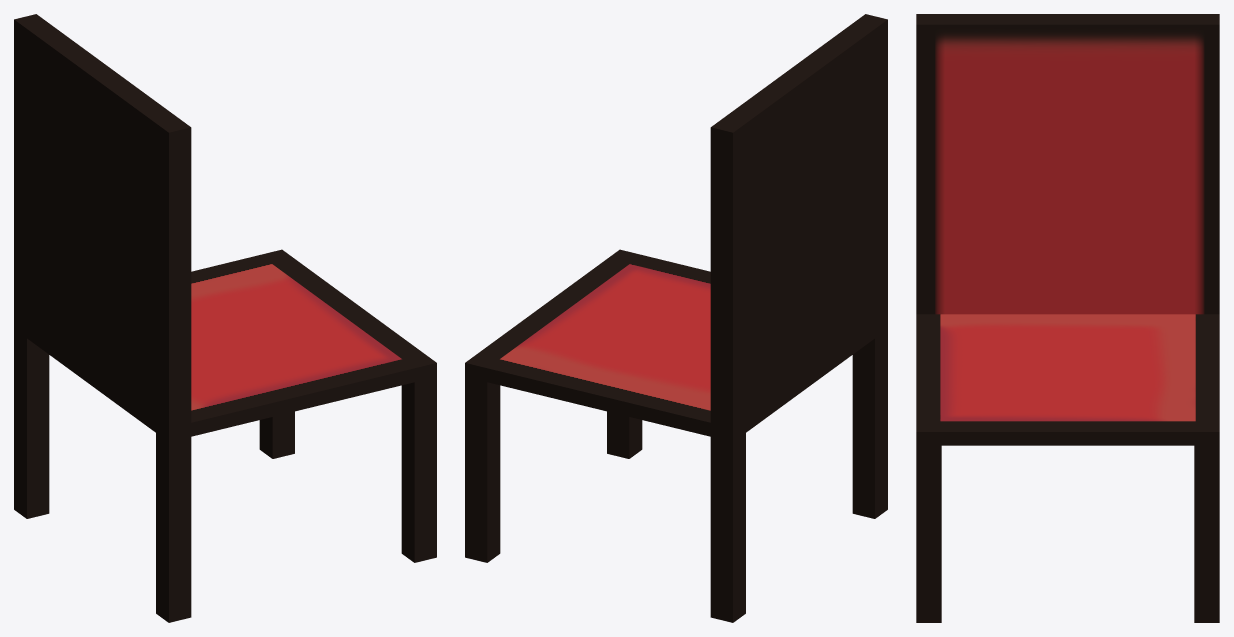
Rendered from Chair.fbx.
The picture shows the model from 3 angles, left to right: view 1: azimuth 30°, elevation 25°; view 2: azimuth 150°, elevation 25°; view 3: azimuth 270°, elevation 25°; orthographic projection.
Parts seen in each view (by area): view 1: Chair; view 2: Chair; view 3: Chair.
Part boxes in pixels (x1,y1,x2,y2): Chair: (14, 14, 436, 622); Chair: (465, 14, 887, 622); Chair: (916, 14, 1219, 622).
Bounding box in the file's own units: 100 × 175 × 100.
